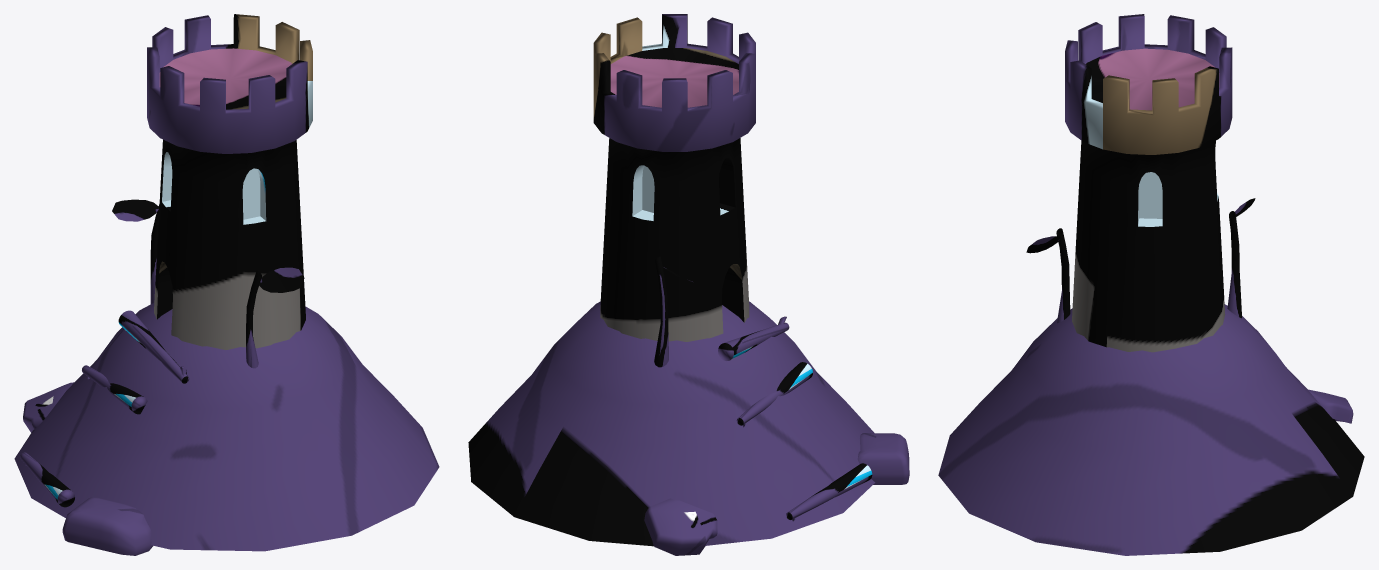
Rendered from Castillo_2.fbx.
3 views of the same model, side by side, from view 1: azimuth 30°, elevation 25°; view 2: azimuth 150°, elevation 25°; view 3: azimuth 270°, elevation 25° (orthographic).
Parts seen in each view (by area): view 1: Rock28; view 2: Rock28; view 3: Rock28.
Boxes of the visible parts, x1,y1,x2,y2 form: Rock28: [14, 14, 439, 555]; Rock28: [468, 14, 909, 555]; Rock28: [938, 14, 1364, 555].
Size of the model in its own units: 169 by 178 by 162.
